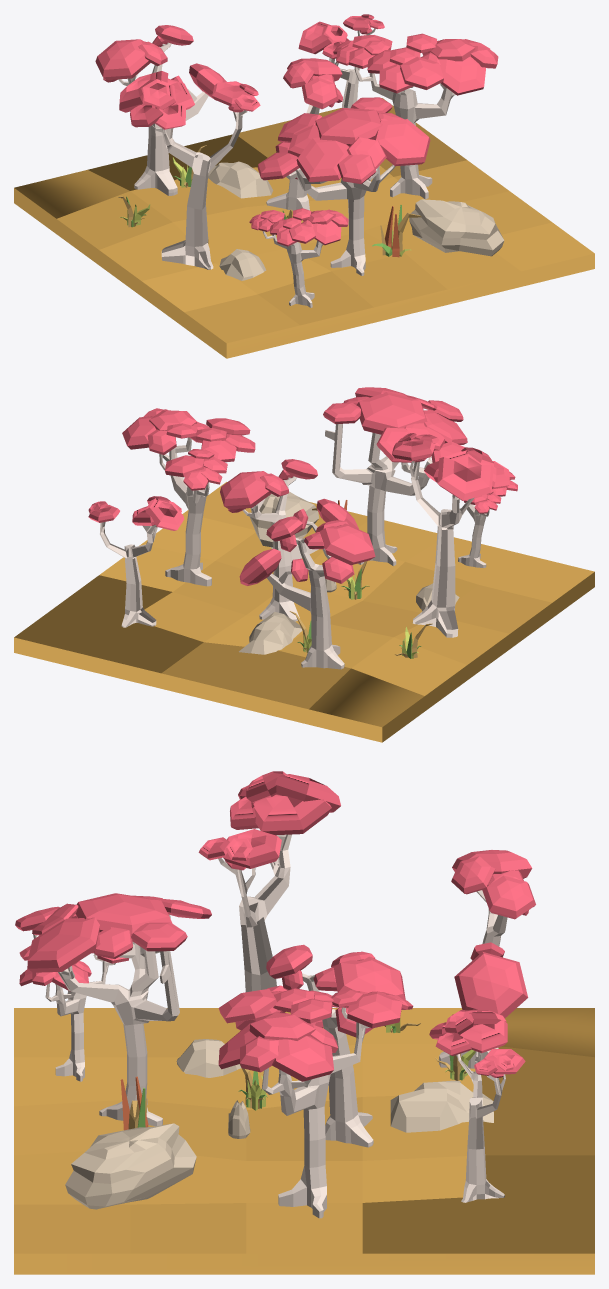
Rendered from floortile2_1.fbx.
3 views of the same model, one above another, from view 1: azimuth 30°, elevation 25°; view 2: azimuth 150°, elevation 25°; view 3: azimuth 270°, elevation 25° (orthographic). The views are drawn at different scales.
Parts seen in each view (by area): view 1: floortile, boom_7_MOD, boom_6_MOD, boom_3_MOD, boom_5_MOD, rock_2_MOD, boom_2_MOD, boom_1_MOD, boom_4_MOD, rock_3_MOD, rock_4_MOD, grasses_3_MOD; view 2: floortile, boom_7_MOD, boom_6_MOD, boom_5_MOD, boom_3_MOD, boom_1_MOD, boom_4_MOD, rock_3_MOD, boom_2_MOD, rock_2_MOD; view 3: floortile, boom_6_MOD, boom_7_MOD, boom_3_MOD, boom_5_MOD, boom_1_MOD, rock_2_MOD, boom_4_MOD, rock_3_MOD, boom_2_MOD, rock_4_MOD, grasses_3_MOD (+2 smaller).
Boxes of the visible parts, bbox=[...] form: floortile: bbox=[14, 98, 594, 358]; boom_7_MOD: bbox=[257, 97, 430, 275]; boom_6_MOD: bbox=[333, 33, 498, 199]; boom_3_MOD: bbox=[119, 71, 260, 269]; boom_5_MOD: bbox=[95, 25, 226, 195]; rock_2_MOD: bbox=[409, 199, 504, 256]; boom_2_MOD: bbox=[249, 208, 348, 307]; boom_1_MOD: bbox=[266, 58, 342, 210]; boom_4_MOD: bbox=[298, 14, 384, 108]; rock_3_MOD: bbox=[208, 161, 273, 198]; rock_4_MOD: bbox=[219, 249, 266, 280]; grasses_3_MOD: bbox=[372, 205, 421, 257]; floortile: bbox=[14, 482, 594, 742]; boom_7_MOD: bbox=[323, 387, 467, 566]; boom_6_MOD: bbox=[122, 408, 255, 586]; boom_5_MOD: bbox=[239, 516, 375, 669]; boom_3_MOD: bbox=[392, 433, 509, 637]; boom_1_MOD: bbox=[220, 459, 358, 621]; boom_4_MOD: bbox=[88, 496, 184, 627]; rock_3_MOD: bbox=[239, 612, 302, 654]; boom_2_MOD: bbox=[458, 471, 517, 567]; rock_2_MOD: bbox=[250, 491, 318, 548]; floortile: bbox=[14, 1008, 594, 1274]; boom_6_MOD: bbox=[218, 988, 413, 1218]; boom_7_MOD: bbox=[15, 893, 211, 1126]; boom_3_MOD: bbox=[198, 771, 340, 992]; boom_5_MOD: bbox=[439, 850, 535, 1068]; boom_1_MOD: bbox=[235, 944, 405, 1147]; rock_2_MOD: bbox=[65, 1123, 196, 1209]; boom_4_MOD: bbox=[429, 1009, 525, 1202]; rock_3_MOD: bbox=[390, 1080, 493, 1132]; boom_2_MOD: bbox=[19, 945, 128, 1081]; rock_4_MOD: bbox=[176, 1039, 241, 1077]; grasses_3_MOD: bbox=[120, 1076, 148, 1130].
Size of the model in its own units: 50.67 by 26.04 by 50.
